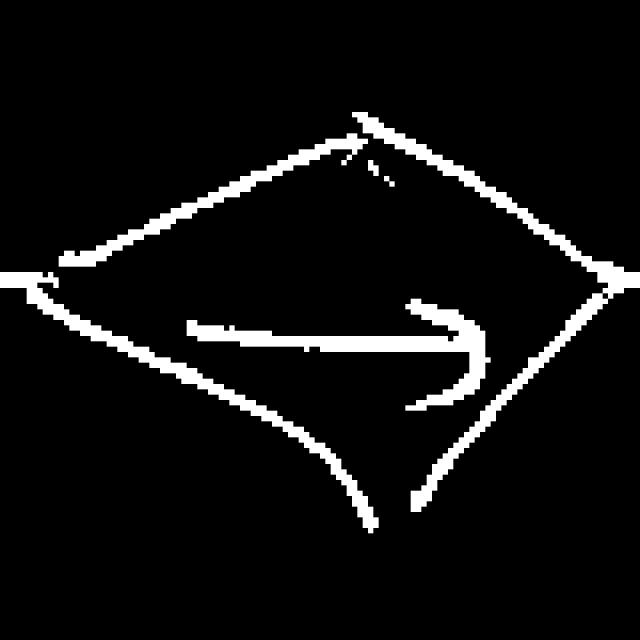dependant_current: (35, 74, 629, 538)
